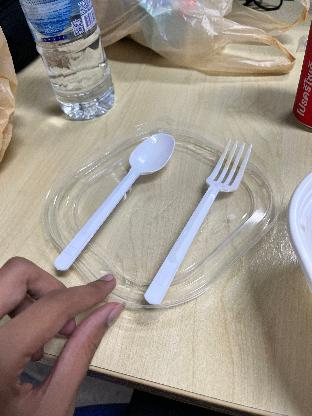Others: (136, 136, 258, 308), (52, 127, 180, 274)
Plastic Bottle: (24, 0, 116, 122)
